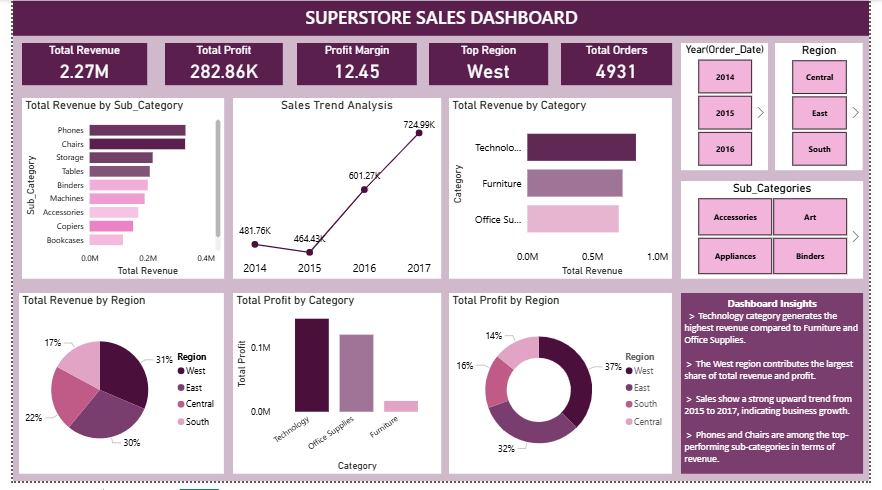

This screenshot's page, from the dashboard's own definition file:
{"tool":"powerbi","page":{"name":"Page 1","canvas":[1280,720],"ordinal":0},"visuals":[{"type":"lineChart","title":"Sales Trend Analysis","fields":{"Y":["superstore_db superstore.Total Revenue"],"Category":["superstore_db superstore.Order_Date.Variation.Date Hierarchy.Year"]},"box":[328.6,147.9,310.7,270.4],"z":0},{"type":"clusteredBarChart","fields":{"Category":["superstore_db superstore.Category"],"Y":["superstore_db superstore.Total Revenue"]},"box":[651.3,147.9,333.1,270.4],"z":1000},{"type":"clusteredColumnChart","fields":{"Category":["superstore_db superstore.Category"],"Y":["superstore_db superstore.Total Profit"]},"box":[328.6,439.2,310.7,270.4],"z":2000},{"type":"pieChart","fields":{"Category":["superstore_db superstore.Region"],"Y":["superstore_db superstore.Total Revenue"]},"box":[9,439.2,306.2,270.4],"z":3000},{"type":"clusteredBarChart","fields":{"Category":["superstore_db superstore.Sub_Category"],"Y":["superstore_db superstore.Total Revenue"]},"box":[13.4,147.9,301.7,270.4],"z":4000},{"type":"donutChart","fields":{"Category":["superstore_db superstore.Region"],"Y":["superstore_db superstore.Total Profit"]},"box":[651.3,439.2,333.1,270.4],"z":5000},{"type":"card","title":"Total Revenue","fields":{"Values":["superstore_db superstore.Total Revenue"]},"box":[13.4,65.7,186.7,62.7],"z":7000},{"type":"card","title":"Total Orders","fields":{"Values":["superstore_db superstore.Total Orders"]},"box":[818.6,65.7,165.8,62.7],"z":8000},{"type":"card","title":"Total Profit","fields":{"Values":["superstore_db superstore.Total Profit"]},"box":[227.1,65.7,176.3,62.7],"z":9000},{"type":"card","title":"Profit Margin","fields":{"Values":["superstore_db superstore.Profit Margin"]},"box":[424.2,65.7,179.3,62.7],"z":10000},{"type":"card","title":"Top Region","fields":{"Values":["superstore_db superstore.Top Region"]},"box":[621.4,65.7,177.8,62.7],"z":11000},{"type":"textbox","box":[0,3.3,1280,51.7],"z":12000},{"type":"slicer","title":"Year(Order_Date)","fields":{"Values":["superstore_db superstore.Order_Date.Variation.Date Hierarchy.Year"]},"box":[997.8,65.7,130,189.7],"z":13000},{"type":"slicer","title":"Region","fields":{"Values":["superstore_db superstore.Region"]},"box":[1138.3,65.7,131.5,189.7],"z":14000},{"type":"slicer","title":"Sub_Categories","fields":{"Values":["superstore_db superstore.Sub_Category"]},"box":[997.8,271.9,271.9,146.4],"z":15000},{"type":"textbox","box":[998,439,272,270],"z":15001}]}

Visuals, with their boxes in screenshot pixels (x1, y1, x2, y2), scaled from the page's 1280x720 canvas onto the 882x490 screenshot:
"Sales Trend Analysis" lineChart: 226, 101, 441, 285
clusteredBarChart - superstore_db superstore.Category x superstore_db superstore.Total Revenue: 449, 101, 678, 285
clusteredColumnChart - superstore_db superstore.Category x superstore_db superstore.Total Profit: 226, 299, 441, 483
pieChart - superstore_db superstore.Region x superstore_db superstore.Total Revenue: 6, 299, 217, 483
clusteredBarChart - superstore_db superstore.Sub_Category x superstore_db superstore.Total Revenue: 9, 101, 217, 285
donutChart - superstore_db superstore.Region x superstore_db superstore.Total Profit: 449, 299, 678, 483
"Total Revenue" card: 9, 45, 138, 87
"Total Orders" card: 564, 45, 678, 87
"Total Profit" card: 156, 45, 278, 87
"Profit Margin" card: 292, 45, 416, 87
"Top Region" card: 428, 45, 551, 87
textbox: 0, 2, 881, 37
"Year(Order_Date)" slicer: 688, 45, 777, 174
"Region" slicer: 784, 45, 875, 174
"Sub_Categories" slicer: 688, 185, 875, 285
textbox: 688, 299, 875, 483
